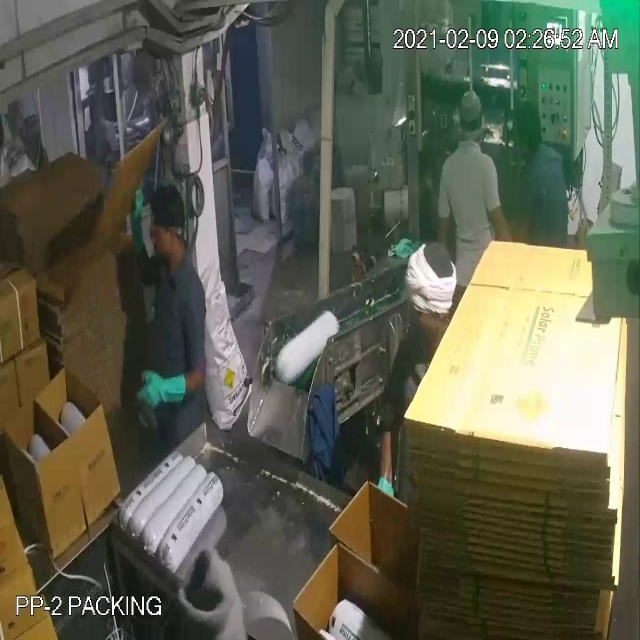Guantes: (133, 356, 196, 419), (126, 181, 152, 267)
